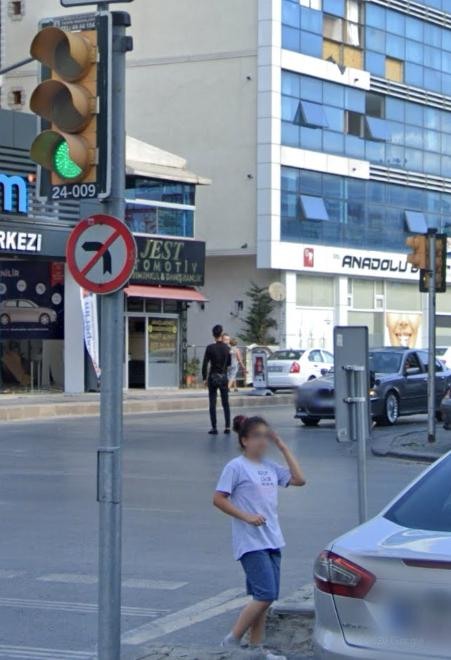greenlight: (36, 18, 120, 181)
leftturnsareforbidden: (70, 208, 119, 287)
